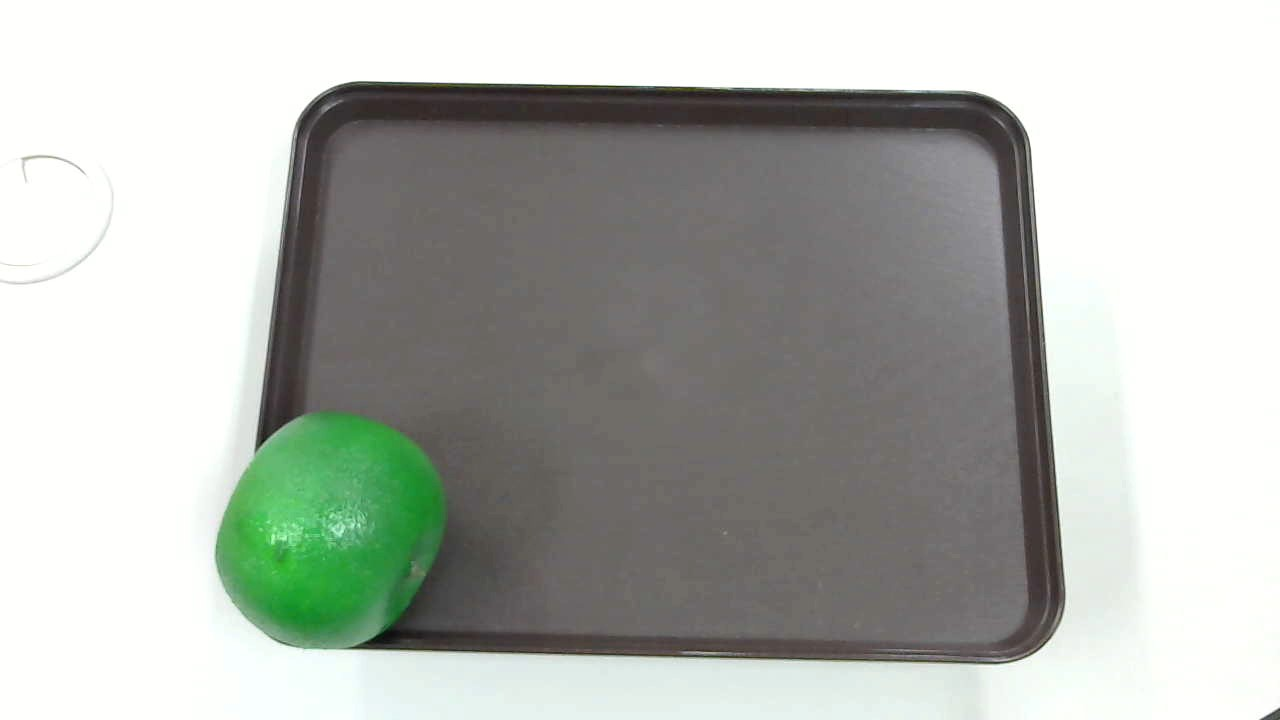green orange: (210, 410, 452, 658)
